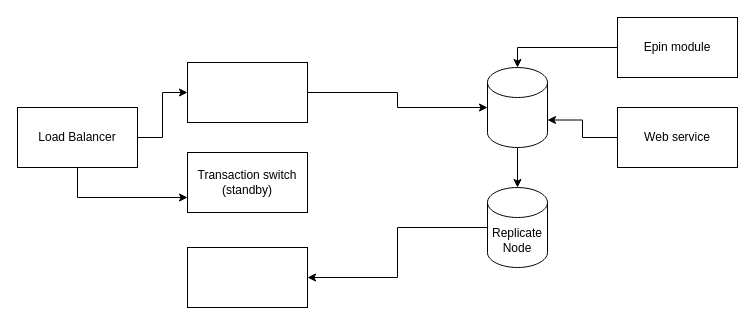
Some shapes in this 755 by 325 pixel diagram are drawn without their labels. The shapes that lost their labels are listed below. From the top down, each one's centre as x and y in pixels, then its label:
(247,92): Transaction switch
(517,107): Primary Node
(247,277): Reconciliation Server
